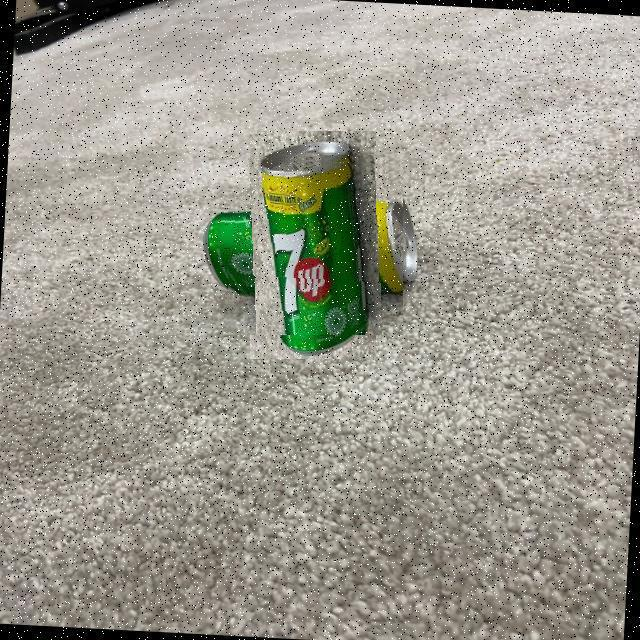recyclable: (224, 155, 403, 335)
